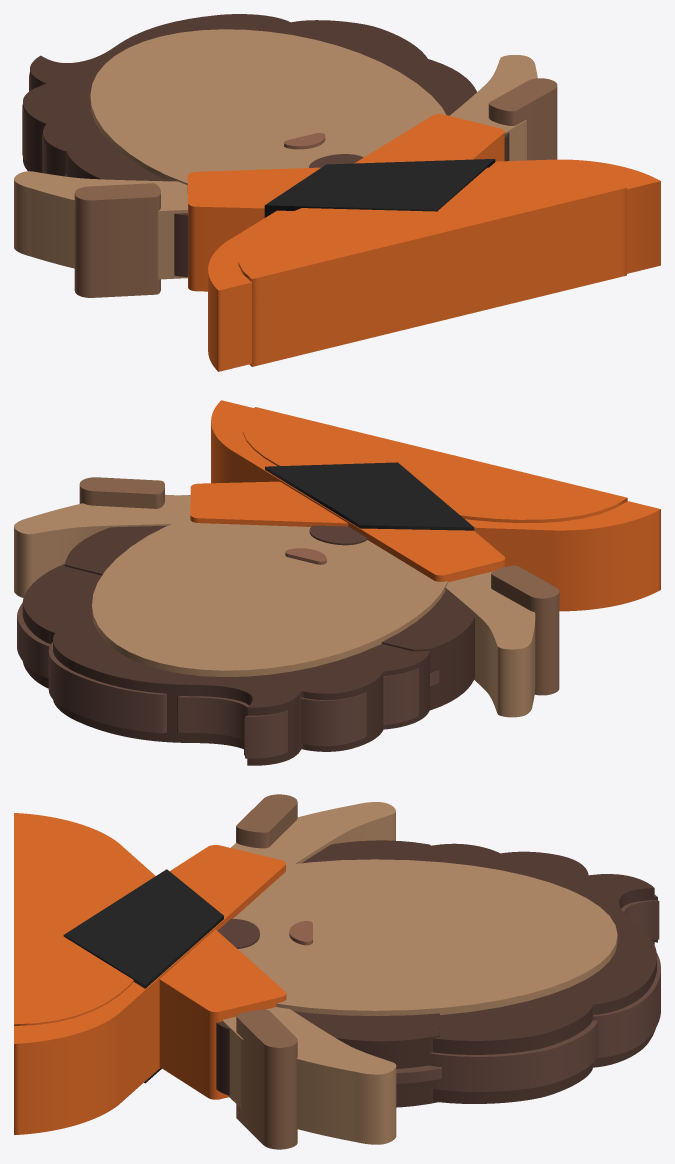
The model's file is emoji_u1f645_1f3fd.glb.
The picture shows the model from 3 angles, top to bottom: view 1: azimuth 30°, elevation 25°; view 2: azimuth 150°, elevation 25°; view 3: azimuth 270°, elevation 25°; orthographic projection. The views are drawn at different scales.
Visible parts, largest first — view 1: emoji_u1f645_1f3fd; view 2: emoji_u1f645_1f3fd; view 3: emoji_u1f645_1f3fd.
Boxes of the visible parts, x1=… form: emoji_u1f645_1f3fd: x1=14, y1=14, x2=660, y2=371; emoji_u1f645_1f3fd: x1=14, y1=400, x2=660, y2=765; emoji_u1f645_1f3fd: x1=14, y1=794, x2=660, y2=1149.
Bounding box in the file's own units: 0.0331 × 0.006 × 0.0334.
